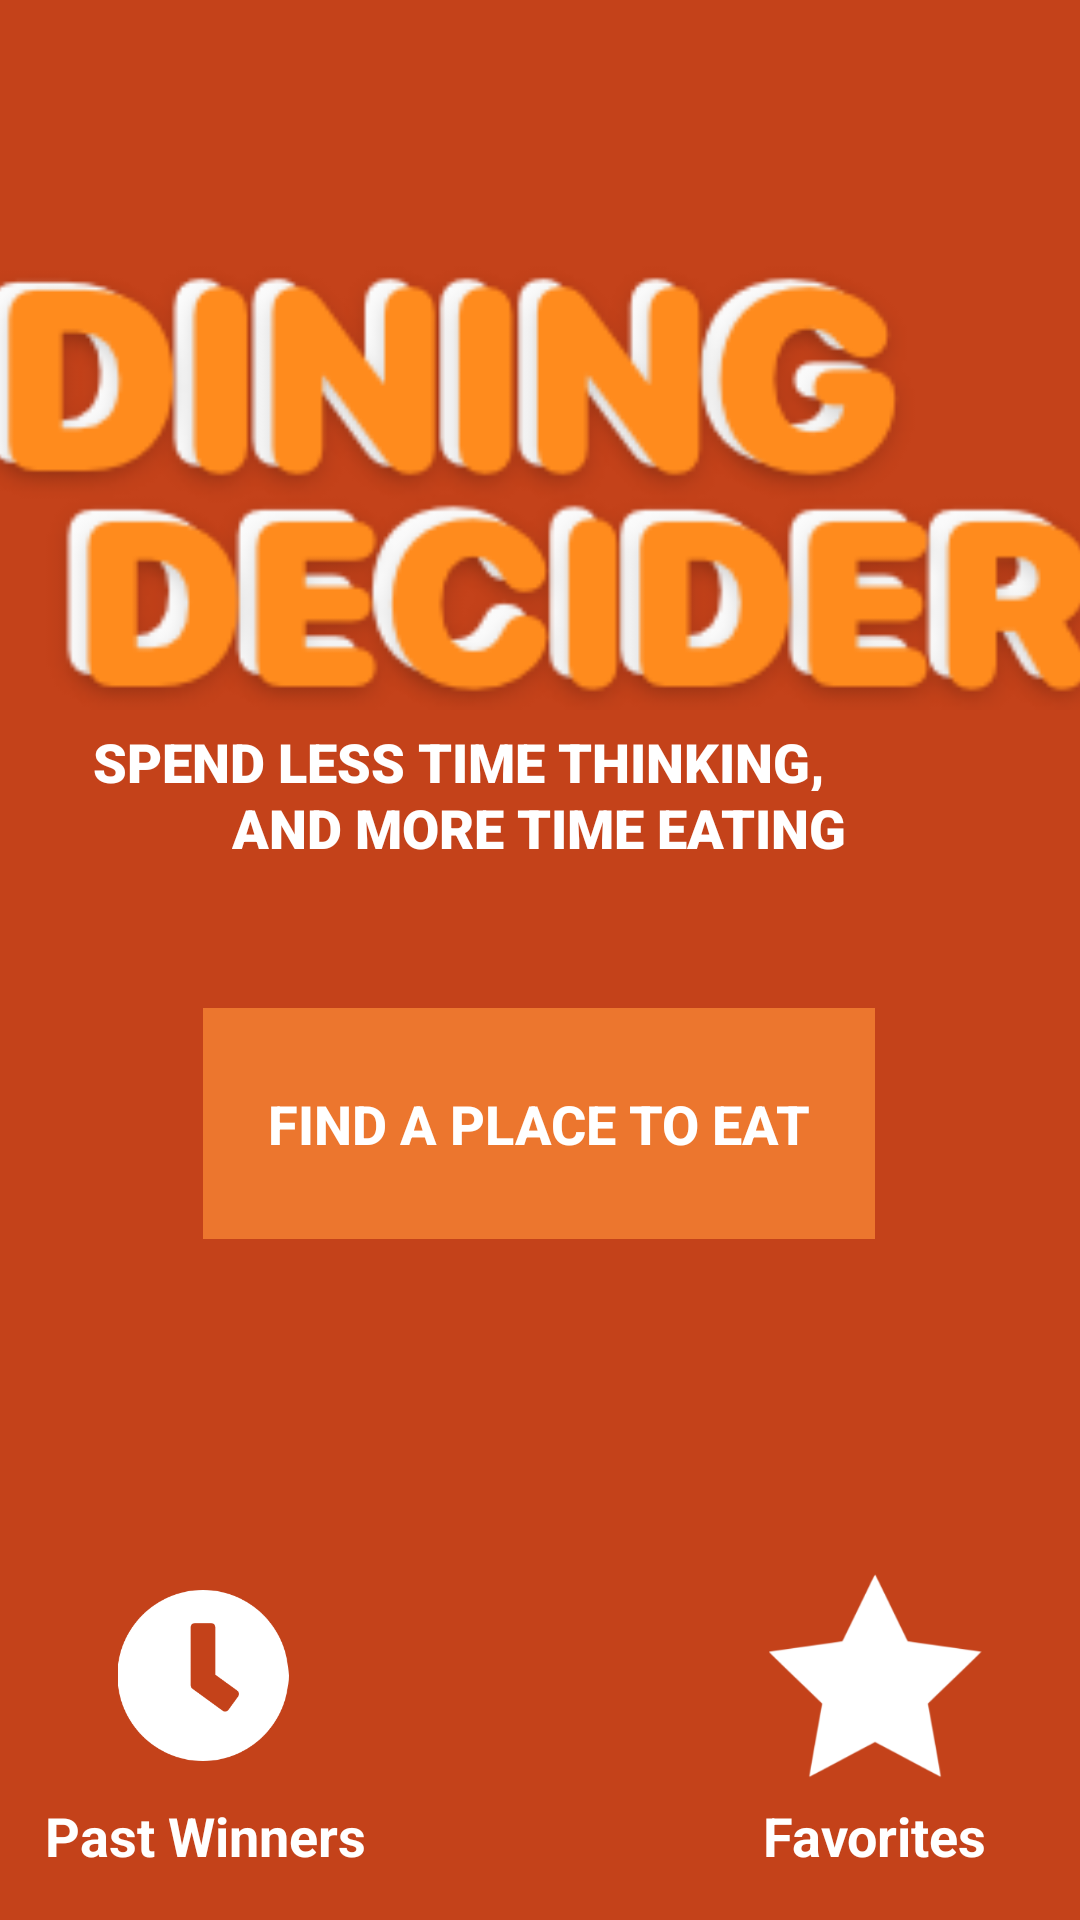

Screen size 1080x1920. Icon name, then its box in pixels as bbox=[x1, y1, x2, y2]:
awesome clock: bbox=[118, 1590, 289, 1761]
star xxl: bbox=[769, 1575, 982, 1777]
